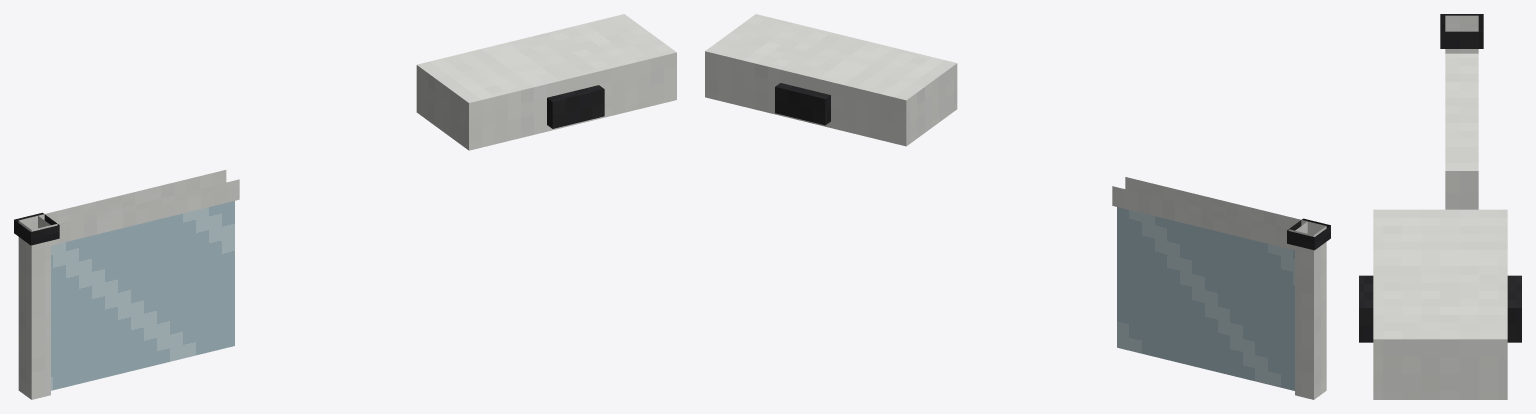
The model's file is auto_door_wide_slider_white_c0_upper_left_open.obj.
3 renders of one model, left to right at view 1: azimuth 30°, elevation 25°; view 2: azimuth 150°, elevation 25°; view 3: azimuth 270°, elevation 25°, orthographic. The views are drawn at different scales.
Parts seen in each view (by area): view 1: auto_door_wide_slider_white_c0_upper_left_open; view 2: auto_door_wide_slider_white_c0_upper_left_open; view 3: auto_door_wide_slider_white_c0_upper_left_open.
Part boxes in pixels (<box>): auto_door_wide_slider_white_c0_upper_left_open: <box>14,14,676,399</box>; auto_door_wide_slider_white_c0_upper_left_open: <box>705,14,1330,399</box>; auto_door_wide_slider_white_c0_upper_left_open: <box>1359,14,1521,399</box>.
Bounding box in the file's own units: 2.98 × 1 × 0.5312.
